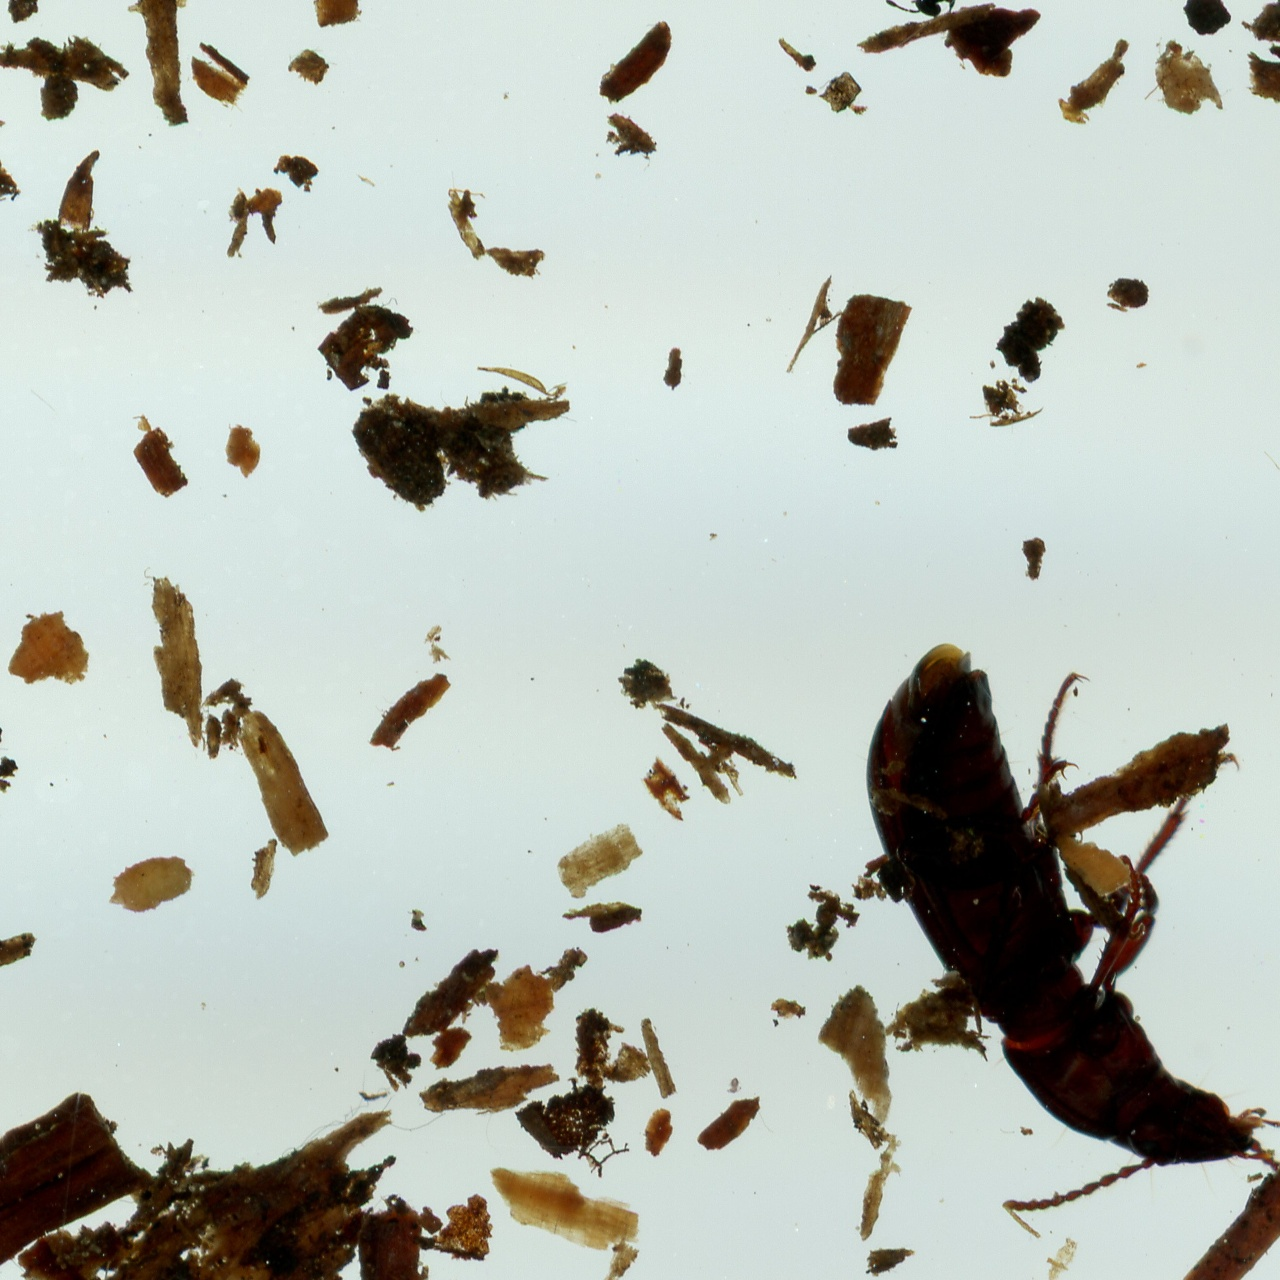arthropod: (858, 635, 1280, 1220), (880, 0, 983, 22)
